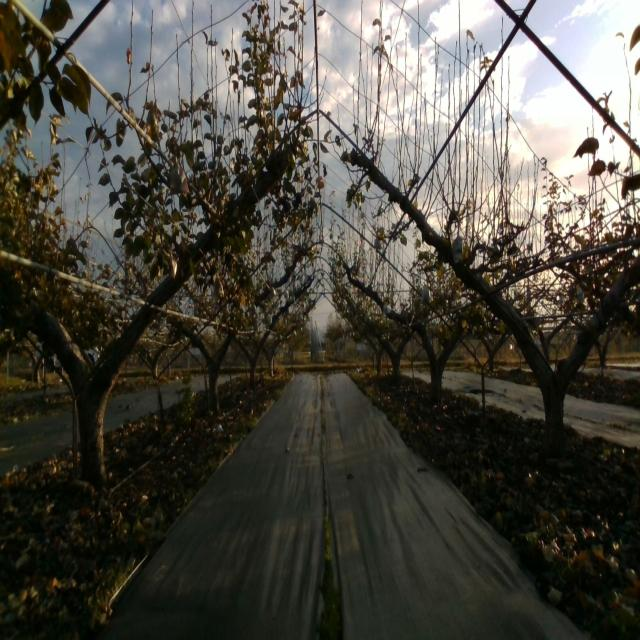pearbags: (169, 155, 190, 196), (452, 231, 464, 264)
